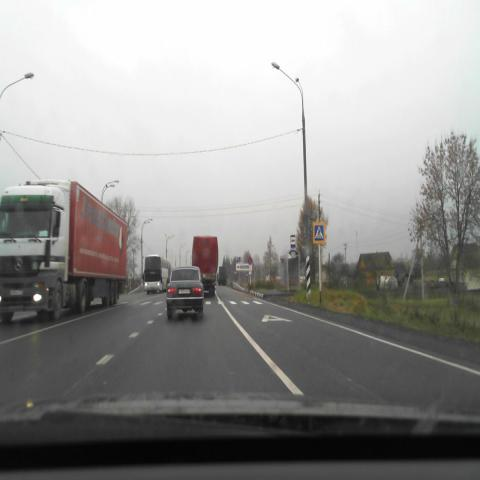5_19_1: (313, 222, 325, 244)
